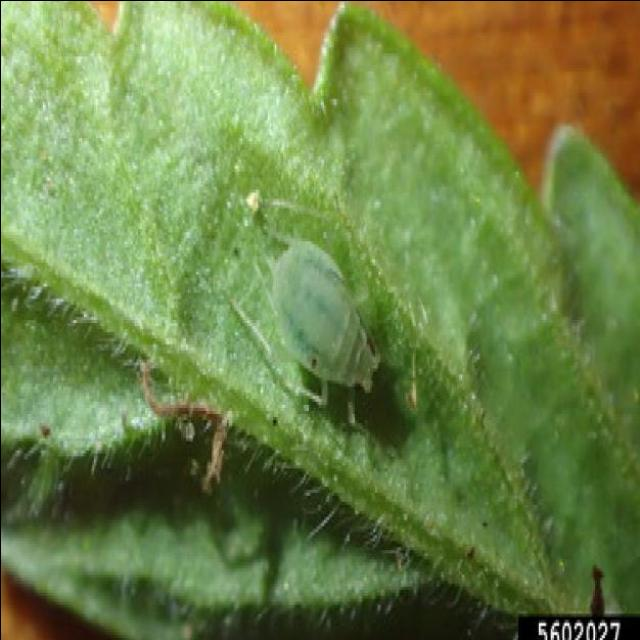Aphids: (228, 184, 394, 442)
